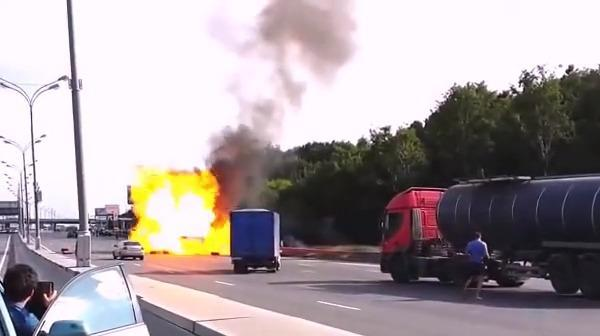fire: (130, 163, 230, 256)
